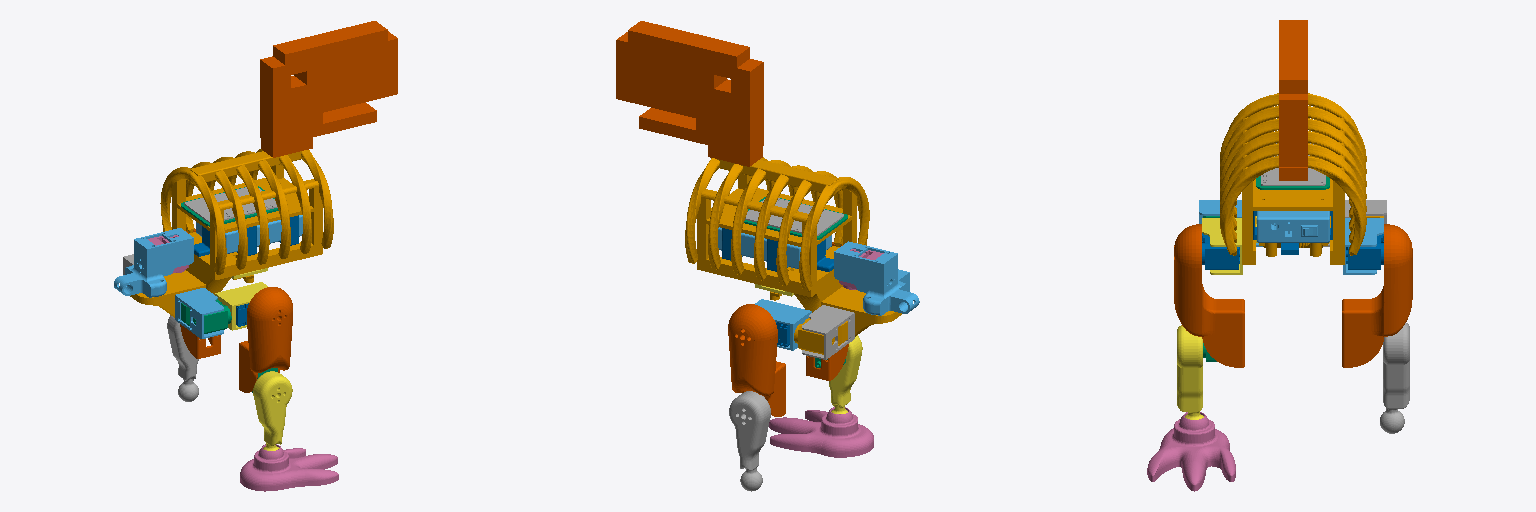
--- Render facts (derived) ---
The picture shows the robot from 3 angles, left to right: view 1: azimuth 30°, elevation 25°; view 2: azimuth 150°, elevation 25°; view 3: azimuth 270°, elevation 25°; orthographic projection.
Robot: jake — 26 links, 25 joints (8 continuous, 17 fixed); root link base_link; default pose: every joint at zero.
Links seen in each view (by area): view 1: base_link, Noggin_v21, thigh1, foot1Component181, jake_tail_STEP_v31Tail1Base1, calf1Main_Calf1, hipmount11, calfMirror1Main_Calf_11, hipmount21, jake_RpiBoard_Fina_v81Raspberry_Pi_4_Model_B_v31PCB_RPi4ModelB1, battery_case_v141actual_case_lol1, battery_case_v141TalentCell_Battery_v21 (+2 smaller); view 2: base_link, Noggin_v21, thighMirror1, foot1Component181, jake_tail_STEP_v31Tail1Base1, calfMirror1Main_Calf_11, hipmount1Mirror1, calf1Main_Calf1, hipmount2Mirror1, jake_RpiBoard_Fina_v81Raspberry_Pi_4_Model_B_v31PCB_RPi4ModelB1, battery_case_v141actual_case_lol1, battery_case_v141TalentCell_Battery_v21 (+2 smaller); view 3: base_link, thighMirror1, thigh1, Noggin_v21, foot1Component181, calfMirror1Main_Calf_11, battery_case_v141TalentCell_Battery_v21, calf1Main_Calf1, servo21Motor_w_Flywheel_Attached_11, hipmount21, servo2Mirror1Motor_w_Flywheel_Attached_1_21, hipmount2Mirror1 (+1 smaller).
Link boxes in pixels (x1=…): base_link: x1=130, y1=149, x2=333, y2=317; Noggin_v21: x1=260, y1=21, x2=397, y2=157; thigh1: x1=239, y1=287, x2=292, y2=392; foot1Component181: x1=240, y1=444, x2=338, y2=491; jake_tail_STEP_v31Tail1Base1: x1=114, y1=228, x2=193, y2=297; calf1Main_Calf1: x1=253, y1=371, x2=292, y2=450; hipmount11: x1=175, y1=288, x2=223, y2=338; calfMirror1Main_Calf_11: x1=167, y1=315, x2=199, y2=401; hipmount21: x1=215, y1=282, x2=267, y2=330; jake_RpiBoard_Fina_v81Raspberry_Pi_4_Model_B_v31PCB_RPi4ModelB1: x1=184, y1=187, x2=277, y2=222; battery_case_v141actual_case_lol1: x1=194, y1=215, x2=298, y2=256; battery_case_v141TalentCell_Battery_v21: x1=196, y1=215, x2=302, y2=253; base_link: x1=685, y1=157, x2=901, y2=336; Noggin_v21: x1=616, y1=21, x2=763, y2=166; thighMirror1: x1=728, y1=304, x2=785, y2=416; foot1Component181: x1=769, y1=407, x2=873, y2=457; jake_tail_STEP_v31Tail1Base1: x1=834, y1=241, x2=919, y2=315; calfMirror1Main_Calf_11: x1=729, y1=391, x2=770, y2=491; hipmount1Mirror1: x1=802, y1=305, x2=854, y2=359; calf1Main_Calf1: x1=829, y1=335, x2=862, y2=413; hipmount2Mirror1: x1=755, y1=299, x2=811, y2=350; jake_RpiBoard_Fina_v81Raspberry_Pi_4_Model_B_v31PCB_RPi4ModelB1: x1=745, y1=198, x2=843, y2=235; battery_case_v141actual_case_lol1: x1=722, y1=228, x2=833, y2=271; battery_case_v141TalentCell_Battery_v21: x1=718, y1=227, x2=831, y2=268; base_link: x1=1220, y1=93, x2=1366, y2=264; thighMirror1: x1=1342, y1=224, x2=1412, y2=367; thigh1: x1=1174, y1=224, x2=1244, y2=367; Noggin_v21: x1=1279, y1=20, x2=1307, y2=180; foot1Component181: x1=1147, y1=412, x2=1235, y2=491; calfMirror1Main_Calf_11: x1=1380, y1=323, x2=1409, y2=433; battery_case_v141TalentCell_Battery_v21: x1=1257, y1=211, x2=1329, y2=242; calf1Main_Calf1: x1=1177, y1=325, x2=1203, y2=419; servo21Motor_w_Flywheel_Attached_11: x1=1202, y1=233, x2=1239, y2=269; hipmount21: x1=1202, y1=218, x2=1242, y2=274; servo2Mirror1Motor_w_Flywheel_Attached_1_21: x1=1346, y1=234, x2=1383, y2=269; hipmount2Mirror1: x1=1343, y1=218, x2=1383, y2=274.
Size in the robot's own frame: 0.3246 by 0.2278 by 0.4373 metres.
Meshes: 26 distinct files referenced, 24 mesh visuals loaded (24 binary STL); not drawn: 2 (reference not matched to a file when rendering).

The robot description file, URDF, robot "jake":
<?xml version="1.0" ?>
<robot name="jake">

<material name="silver">
  <color rgba="0.700 0.700 0.700 1.000"/>
</material>

<link name="base_link">
  <inertial>
    <origin xyz="0.07366642744220055 3.4324931540878744e-08 0.07497454082711993" rpy="0 0 0"/>
    <mass value="0.0735175424772156"/>
    <inertia ixx="0.00022715298291462257" iyy="0.00035650467246695875" izz="0.00027330612180046226" ixy="2.139282183341953e-11" iyz="1.4540012846842918e-11" ixz="-0.00010753830886941747"/>
  </inertial>
  <visual>
    <origin xyz="0 0 0" rpy="0 0 0"/>
    <geometry>
      <mesh filename="meshes/base_link.stl" scale="0.001 0.001 0.001"/>
    </geometry>
    <material name="silver"/>
    <material/>
  </visual>
  <collision>
    <origin xyz="0 0 0" rpy="0 0 0"/>
    <geometry>
      <mesh filename="meshes/base_link.stl" scale="0.001 0.001 0.001"/>
    </geometry>
  </collision>
</link>

<link name="hipmount11">
  <inertial>
    <origin xyz="-0.010450877473847946 -0.020598854976074027 -0.006975051044249692" rpy="0 0 0"/>
    <mass value="0.002127030917238079"/>
    <inertia ixx="9.64808475540197e-07" iyy="5.00558554912034e-07" izz="9.430966968339194e-07" ixy="-1.0072694535571229e-07" iyz="4.059700887159884e-14" ixz="2.3205380691548698e-14"/>
  </inertial>
  <visual>
    <origin xyz="-0.02253 0.0254 -0.020945" rpy="0 0 0"/>
    <geometry>
      <mesh filename="meshes/hipmount11.stl" scale="0.001 0.001 0.001"/>
    </geometry>
    <material name="silver"/>
    <material/>
  </visual>
  <collision>
    <origin xyz="-0.02253 0.0254 -0.020945" rpy="0 0 0"/>
    <geometry>
      <mesh filename="meshes/hipmount11.stl" scale="0.001 0.001 0.001"/>
    </geometry>
  </collision>
</link>

<link name="servo11Motor_w_Flywheel_Attached1">
  <inertial>
    <origin xyz="-0.04553647829764142 -0.010497058076662617 -0.0001456577357472847" rpy="0 0 0"/>
    <mass value="0.05200108715490274"/>
    <inertia ixx="1.1411737965950517e-05" iyy="7.3256973563640795e-06" izz="1.3509763471800736e-05" ixy="4.391971279984005e-07" iyz="2.360253048642449e-11" ixz="1.749658177164408e-10"/>
  </inertial>
  <visual>
    <origin xyz="-0.062502 0.044282 -0.014116" rpy="0 0 0"/>
    <geometry>
      <mesh filename="meshes/servo11Motor_w_Flywheel_Attached1.stl" scale="0.001 0.001 0.001"/>
    </geometry>
    <material name="silver"/>
    <material/>
  </visual>
  <collision>
    <origin xyz="-0.062502 0.044282 -0.014116" rpy="0 0 0"/>
    <geometry>
      <mesh filename="meshes/servo11Motor_w_Flywheel_Attached1.stl" scale="0.001 0.001 0.001"/>
    </geometry>
  </collision>
</link>

<link name="hipmount21">
  <inertial>
    <origin xyz="0.020598863547502767 0.010451077473885108 1.0436543625841344e-09" rpy="0 0 0"/>
    <mass value="0.002127030917238079"/>
    <inertia ixx="5.005585549120615e-07" iyy="9.648084755402003e-07" izz="9.430966968339211e-07" ixy="-1.0072694535572203e-07" iyz="2.3205377726933383e-14" ixz="4.0597003154126446e-14"/>
  </inertial>
  <visual>
    <origin xyz="-0.035628 0.067677 -0.01397" rpy="0 0 0"/>
    <geometry>
      <mesh filename="meshes/hipmount21.stl" scale="0.001 0.001 0.001"/>
    </geometry>
    <material name="silver"/>
    <material/>
  </visual>
  <collision>
    <origin xyz="-0.035628 0.067677 -0.01397" rpy="0 0 0"/>
    <geometry>
      <mesh filename="meshes/hipmount21.stl" scale="0.001 0.001 0.001"/>
    </geometry>
  </collision>
</link>

<link name="servo21Motor_w_Flywheel_Attached_11">
  <inertial>
    <origin xyz="-0.012448933351908775 0.07796467829767864 0.0001456077351519574" rpy="0 0 0"/>
    <mass value="0.05200108715490274"/>
    <inertia ixx="7.325697356363954e-06" iyy="1.1411737965950599e-05" izz="1.3509763471800844e-05" ixy="4.3919712799833275e-07" iyz="1.7496581771305267e-10" ixz="2.3602530493200755e-11"/>
  </inertial>
  <visual>
    <origin xyz="-0.077456 0.140077 -0.013824" rpy="0 0 0"/>
    <geometry>
      <mesh filename="meshes/servo21Motor_w_Flywheel_Attached_11.stl" scale="0.001 0.001 0.001"/>
    </geometry>
    <material name="silver"/>
    <material/>
  </visual>
  <collision>
    <origin xyz="-0.077456 0.140077 -0.013824" rpy="0 0 0"/>
    <geometry>
      <mesh filename="meshes/servo21Motor_w_Flywheel_Attached_11.stl" scale="0.001 0.001 0.001"/>
    </geometry>
  </collision>
</link>

<link name="thigh1">
  <inertial>
    <origin xyz="0.0002239642103345485 -0.0039656170424636344 -0.02706053963576697" rpy="0 0 0"/>
    <mass value="0.015624350984100959"/>
    <inertia ixx="1.3839764164106519e-05" iyy="1.3943498199421182e-05" izz="4.5169682811754634e-06" ixy="-1.2569470561092514e-09" iyz="2.448121333010221e-06" ixz="1.1273443839689718e-07"/>
  </inertial>
  <visual>
    <origin xyz="-0.077905 0.080775 -0.01397" rpy="0 0 0"/>
    <geometry>
      <mesh filename="meshes/thigh1.stl" scale="0.001 0.001 0.001"/>
    </geometry>
    <material name="silver"/>
    <material/>
  </visual>
  <collision>
    <origin xyz="-0.077905 0.080775 -0.01397" rpy="0 0 0"/>
    <geometry>
      <mesh filename="meshes/thigh1.stl" scale="0.001 0.001 0.001"/>
    </geometry>
  </collision>
</link>

<link name="foot1Component181">
  <inertial>
    <origin xyz="0.011361275457841463 -0.0004856821062526051 -0.01795697983808972" rpy="0 0 0"/>
    <mass value="0.013961224525381573"/>
    <inertia ixx="4.510420510224239e-06" iyy="8.317584753180212e-06" izz="1.1637670568507565e-05" ixy="2.2788007857949411e-07" iyz="-1.5594201783255537e-08" ixz="4.293290906789483e-07"/>
  </inertial>
  <visual>
    <origin xyz="-0.078151 0.08501 0.148034" rpy="0 0 0"/>
    <geometry>
      <mesh filename="meshes/foot1Component181.stl" scale="0.001 0.001 0.001"/>
    </geometry>
    <material name="silver"/>
    <material/>
  </visual>
  <collision>
    <origin xyz="-0.078151 0.08501 0.148034" rpy="0 0 0"/>
    <geometry>
      <mesh filename="meshes/foot1Component181.stl" scale="0.001 0.001 0.001"/>
    </geometry>
  </collision>
</link>

<link name="hipmount1Mirror1">
  <inertial>
    <origin xyz="-0.010450877473847943 0.020598854976073833 -0.006975051044249675" rpy="0 0 0"/>
    <mass value="0.002127030917238081"/>
    <inertia ixx="9.648084755402063e-07" iyy="5.005585549116387e-07" izz="9.430966968335501e-07" ixy="1.0072694535571822e-07" iyz="-4.0597008659840604e-14" ixz="2.320537719753779e-14"/>
  </inertial>
  <visual>
    <origin xyz="-0.02253 -0.0254 -0.020945" rpy="0 0 0"/>
    <geometry>
      <mesh filename="meshes/hipmount1Mirror1.stl" scale="0.001 0.001 0.001"/>
    </geometry>
    <material name="silver"/>
    <material/>
  </visual>
  <collision>
    <origin xyz="-0.02253 -0.0254 -0.020945" rpy="0 0 0"/>
    <geometry>
      <mesh filename="meshes/hipmount1Mirror1.stl" scale="0.001 0.001 0.001"/>
    </geometry>
  </collision>
</link>

<link name="servo1Mirror1Motor_w_Flywheel_Attached_21">
  <inertial>
    <origin xyz="0.013263521702359112 0.010497058076662569 -0.02808565773574729" rpy="0 0 0"/>
    <mass value="0.05200108715490543"/>
    <inertia ixx="1.1411737965951954e-05" iyy="7.325697356364784e-06" izz="1.3509763471802172e-05" ixy="-4.391971279984073e-07" iyz="-2.3602530493200755e-11" ixz="1.7496581775032212e-10"/>
  </inertial>
  <visual>
    <origin xyz="-0.003702 -0.044282 -0.042056" rpy="0 0 0"/>
    <geometry>
      <mesh filename="meshes/servo1Mirror1Motor_w_Flywheel_Attached_21.stl" scale="0.001 0.001 0.001"/>
    </geometry>
    <material name="silver"/>
    <material/>
  </visual>
  <collision>
    <origin xyz="-0.003702 -0.044282 -0.042056" rpy="0 0 0"/>
    <geometry>
      <mesh filename="meshes/servo1Mirror1Motor_w_Flywheel_Attached_21.stl" scale="0.001 0.001 0.001"/>
    </geometry>
  </collision>
</link>

<link name="hipmount2Mirror1">
  <inertial>
    <origin xyz="0.020598863547502608 -0.01045107747388515 1.0436543591146874e-09" rpy="0 0 0"/>
    <mass value="0.002127030917238081"/>
    <inertia ixx="5.005585549116659e-07" iyy="9.648084755402291e-07" izz="9.430966968335298e-07" ixy="1.0072694535572966e-07" iyz="-2.320537857396633e-14" ixz="4.059700018951113e-14"/>
  </inertial>
  <visual>
    <origin xyz="-0.035628 -0.067677 -0.01397" rpy="0 0 0"/>
    <geometry>
      <mesh filename="meshes/hipmount2Mirror1.stl" scale="0.001 0.001 0.001"/>
    </geometry>
    <material name="silver"/>
    <material/>
  </visual>
  <collision>
    <origin xyz="-0.035628 -0.067677 -0.01397" rpy="0 0 0"/>
    <geometry>
      <mesh filename="meshes/hipmount2Mirror1.stl" scale="0.001 0.001 0.001"/>
    </geometry>
  </collision>
</link>

<link name="servo31Motor_w_Flywheel_Attached_1_11">
  <inertial>
    <origin xyz="0.06100154298729926 -0.018782200273749973 0.0027089283078350623" rpy="0 0 0"/>
    <mass value="0.05200108715490274"/>
    <inertia ixx="1.3509763471800682e-05" iyy="1.1411737965950517e-05" izz="7.3256973563640354e-06" ixy="1.7496581765884256e-10" iyz="-4.3919712799841406e-07" ixz="-2.3602530628726026e-11"/>
  </inertial>
  <visual>
    <origin xyz="-0.017036 0.04237 0.064068" rpy="0 0 0"/>
    <geometry>
      <mesh filename="meshes/servo31Motor_w_Flywheel_Attached_1_11.stl" scale="0.001 0.001 0.001"/>
    </geometry>
    <material name="silver"/>
    <material/>
  </visual>
  <collision>
    <origin xyz="-0.017036 0.04237 0.064068" rpy="0 0 0"/>
    <geometry>
      <mesh filename="meshes/servo31Motor_w_Flywheel_Attached_1_11.stl" scale="0.001 0.001 0.001"/>
    </geometry>
  </collision>
</link>

<link name="calf1Main_Calf1">
  <inertial>
    <origin xyz="-0.00044887238441694566 -0.008451510113759872 -0.02178833109571708" rpy="0 0 0"/>
    <mass value="0.008433806361749868"/>
    <inertia ixx="6.334466357061025e-06" iyy="6.565083135876671e-06" izz="8.797591897749866e-07" ixy="-2.1715990777658326e-09" iyz="2.1916108904953548e-07" ixz="2.5548867809316615e-08"/>
  </inertial>
  <visual>
    <origin xyz="-0.078038 0.079815 0.074257" rpy="0 0 0"/>
    <geometry>
      <mesh filename="meshes/calf1Main_Calf1.stl" scale="0.001 0.001 0.001"/>
    </geometry>
    <material name="silver"/>
    <material/>
  </visual>
  <collision>
    <origin xyz="-0.078038 0.079815 0.074257" rpy="0 0 0"/>
    <geometry>
      <mesh filename="meshes/calf1Main_Calf1.stl" scale="0.001 0.001 0.001"/>
    </geometry>
  </collision>
</link>

<link name="servo2Mirror1Motor_w_Flywheel_Attached_1_21">
  <inertial>
    <origin xyz="-0.012448933351908859 0.04569132170232183 0.02808560773515196" rpy="0 0 0"/>
    <mass value="0.05200108715490543"/>
    <inertia ixx="7.32569735636474e-06" iyy="1.14117379659519e-05" izz="1.350976347180247e-05" ixy="-4.3919712799838696e-07" iyz="-1.7496581771982893e-10" ixz="2.3602530493200755e-11"/>
  </inertial>
  <visual>
    <origin xyz="-0.077456 -0.016421 0.014116" rpy="0 0 0"/>
    <geometry>
      <mesh filename="meshes/servo2Mirror1Motor_w_Flywheel_Attached_1_21.stl" scale="0.001 0.001 0.001"/>
    </geometry>
    <material name="silver"/>
    <material/>
  </visual>
  <collision>
    <origin xyz="-0.077456 -0.016421 0.014116" rpy="0 0 0"/>
    <geometry>
      <mesh filename="meshes/servo2Mirror1Motor_w_Flywheel_Attached_1_21.stl" scale="0.001 0.001 0.001"/>
    </geometry>
  </collision>
</link>

<link name="thighMirror1">
  <inertial>
    <origin xyz="0.00022396445139864773 0.003965592661951595 -0.027060572596788894" rpy="0 0 0"/>
    <mass value="0.015624332312955288"/>
    <inertia ixx="1.383974261506272e-05" iyy="1.3943482227764988e-05" izz="4.516960115786173e-06" ixy="1.2566790780053514e-09" iyz="-2.4481159037913195e-06" ixz="1.1273430171928472e-07"/>
  </inertial>
  <visual>
    <origin xyz="-0.077905 -0.080775 -0.01397" rpy="0 0 0"/>
    <geometry>
      <mesh filename="meshes/thighMirror1.stl" scale="0.001 0.001 0.001"/>
    </geometry>
    <material name="silver"/>
    <material/>
  </visual>
  <collision>
    <origin xyz="-0.077905 -0.080775 -0.01397" rpy="0 0 0"/>
    <geometry>
      <mesh filename="meshes/thighMirror1.stl" scale="0.001 0.001 0.001"/>
    </geometry>
  </collision>
</link>

<link name="servo3Mirror1Motor_w_Flywheel_Attached_1_1_11">
  <inertial>
    <origin xyz="-4.5701270064146815e-07 0.0002842002737504304 -0.02210247169216488" rpy="0 0 0"/>
    <mass value="0.05200108715490543"/>
    <inertia ixx="1.3509763471802091e-05" iyy="1.1411737965951927e-05" izz="7.325697356364686e-06" ixy="-1.7496581765884256e-10" iyz="4.3919712799838696e-07" ixz="-2.3602530574515918e-11"/>
  </inertial>
  <visual>
    <origin xyz="-0.078038 -0.060868 0.03598" rpy="0 0 0"/>
    <geometry>
      <mesh filename="meshes/servo3Mirror1Motor_w_Flywheel_Attached_1_1_11.stl" scale="0.001 0.001 0.001"/>
    </geometry>
    <material name="silver"/>
    <material/>
  </visual>
  <collision>
    <origin xyz="-0.078038 -0.060868 0.03598" rpy="0 0 0"/>
    <geometry>
      <mesh filename="meshes/servo3Mirror1Motor_w_Flywheel_Attached_1_1_11.stl" scale="0.001 0.001 0.001"/>
    </geometry>
  </collision>
</link>

<link name="calfMirror1Main_Calf_11">
  <inertial>
    <origin xyz="-0.00044887001728799447 0.008451468083334412 -0.02178869407419469" rpy="0 0 0"/>
    <mass value="0.008433842168596982"/>
    <inertia ixx="6.334507938049352e-06" iyy="6.565125650764874e-06" izz="8.797678338157784e-07" ixy="2.171806058716495e-09" iyz="-2.1915576099561945e-07" ixz="2.5548906498989825e-08"/>
  </inertial>
  <visual>
    <origin xyz="-0.078038 -0.079815 0.07098" rpy="0 0 0"/>
    <geometry>
      <mesh filename="meshes/calfMirror1Main_Calf_11.stl" scale="0.001 0.001 0.001"/>
    </geometry>
    <material name="silver"/>
    <material/>
  </visual>
  <collision>
    <origin xyz="-0.078038 -0.079815 0.07098" rpy="0 0 0"/>
    <geometry>
      <mesh filename="meshes/calfMirror1Main_Calf_11.stl" scale="0.001 0.001 0.001"/>
    </geometry>
  </collision>
</link>

<link name="footMirror1Component231">
  <inertial>
    <origin xyz="0.01136125225530836 0.00048565544201280286 -0.017956407039870143" rpy="0 0 0"/>
    <mass value="0.013961190877406347"/>
    <inertia ixx="4.510400035418578e-06" iyy="8.317561693790257e-06" izz="1.1637642303617652e-05" ixy="-2.2787528977984757e-07" iyz="1.559759098832339e-08" ixz="4.2933288601587714e-07"/>
  </inertial>
  <visual>
    <origin xyz="-0.078151 -0.08501 0.144758" rpy="0 0 0"/>
    <geometry>
      <mesh filename="meshes/footMirror1Component231.stl" scale="0.001 0.001 0.001"/>
    </geometry>
    <material name="silver"/>
    <material/>
  </visual>
  <collision>
    <origin xyz="-0.078151 -0.08501 0.144758" rpy="0 0 0"/>
    <geometry>
      <mesh filename="meshes/footMirror1Component231.stl" scale="0.001 0.001 0.001"/>
    </geometry>
  </collision>
</link>

<link name="jake_tail_STEP_v31Tail1Base1">
  <inertial>
    <origin xyz="-0.0028634109138929026 0.021824857801826292 0.017611438876835576" rpy="0 0 0"/>
    <mass value="0.006025637969283059"/>
    <inertia ixx="2.494837719479819e-06" iyy="2.9567609529643606e-06" izz="2.5336929275497234e-06" ixy="-5.124145240902433e-12" iyz="4.634635232148862e-11" ixz="-7.653164338532848e-07"/>
  </inertial>
  <visual>
    <origin xyz="0.01524 0.021819 -0.03048" rpy="0 0 0"/>
    <geometry>
      <mesh filename="meshes/jake_tail_STEP_v31Tail1Base1.stl" scale="0.001 0.001 0.001"/>
    </geometry>
    <material name="silver"/>
    <material/>
  </visual>
  <collision>
    <origin xyz="0.01524 0.021819 -0.03048" rpy="0 0 0"/>
    <geometry>
      <mesh filename="meshes/jake_tail_STEP_v31Tail1Base1.stl" scale="0.001 0.001 0.001"/>
    </geometry>
  </collision>
</link>

<link name="jake_RpiBoard_Fina_v81board1">
  <inertial>
    <origin xyz="-0.03909564452415272 -0.024359927842207 0.0008999999999999564" rpy="0 0 0"/>
    <mass value="0.0019394922620199428"/>
    <inertia ixx="6.423355849237124e-07" iyy="1.3724438621632714e-06" izz="2.0137321212654904e-06" ixy="-2.0554887126757417e-09" iyz="-8.768114493062093e-22" ixz="0.0"/>
  </inertial>
  <visual>
    <origin xyz="-0.120523 -0.024498 -0.09779" rpy="0 0 0"/>
    <geometry>
      <mesh filename="meshes/jake_RpiBoard_Fina_v81board1.stl" scale="0.001 0.001 0.001"/>
    </geometry>
    <material name="silver"/>
    <material/>
  </visual>
  <collision>
    <origin xyz="-0.120523 -0.024498 -0.09779" rpy="0 0 0"/>
    <geometry>
      <mesh filename="meshes/jake_RpiBoard_Fina_v81board1.stl" scale="0.001 0.001 0.001"/>
    </geometry>
  </collision>
</link>

<link name="Jake_Power_Coverter_Mount_v41Component1081">
  <inertial>
    <origin xyz="0.10970389090909091 -0.017229999999999995 0.08723467024128687" rpy="0 0 0"/>
    <mass value="0.0009712920000000003"/>
    <inertia ixx="7.100202563136745e-07" iyy="2.3900548131367455e-07" izz="9.423444169999999e-07" ixy="1.6212740006039342e-22" iyz="-1.6543612251060553e-24" ixz="0.0"/>
  </inertial>
  <visual>
    <origin xyz="0.02794 -0.01748 0.049804" rpy="0 0 0"/>
    <geometry>
      <mesh filename="meshes/Jake_Power_Coverter_Mount_v41Component1081.stl" scale="0.001 0.001 0.001"/>
    </geometry>
    <material name="silver"/>
    <material/>
  </visual>
  <collision>
    <origin xyz="0.02794 -0.01748 0.049804" rpy="0 0 0"/>
    <geometry>
      <mesh filename="meshes/Jake_Power_Coverter_Mount_v41Component1081.stl" scale="0.001 0.001 0.001"/>
    </geometry>
  </collision>
</link>

<link name="battery_case_v141actual_case_lol1">
  <inertial>
    <origin xyz="0.06307682179410651 0.0002588655651982208 0.006953933283610089" rpy="0 0 0"/>
    <mass value="0.0051109196621821115"/>
    <inertia ixx="2.162276597790557e-06" iyy="6.5273401464139246e-06" izz="7.887364728359264e-06" ixy="2.6968003831336055e-08" iyz="-3.104883297386938e-08" ixz="2.98422021036982e-07"/>
  </inertial>
  <visual>
    <origin xyz="-0.03523 -0.0 -0.05588" rpy="0 0 0"/>
    <geometry>
      <mesh filename="meshes/battery_case_v141actual_case_lol1.stl" scale="0.001 0.001 0.001"/>
    </geometry>
    <material name="silver"/>
    <material/>
  </visual>
  <collision>
    <origin xyz="-0.03523 -0.0 -0.05588" rpy="0 0 0"/>
    <geometry>
      <mesh filename="meshes/battery_case_v141actual_case_lol1.stl" scale="0.001 0.001 0.001"/>
    </geometry>
  </collision>
</link>

<link name="Noggin_v21">
  <inertial>
    <origin xyz="0.3538460409345008 -0.10318200000000001 0.296393973731926" rpy="0 0 0"/>
    <mass value="0.05806545047808987"/>
    <inertia ixx="5.252505119797716e-05" iyy="0.00014773268773648172" izz="0.00010189922647076003" ixy="-1.1430306821771549e-20" iyz="1.651990056109582e-20" ixz="-8.328721245680955e-06"/>
  </inertial>
  <visual>
    <origin xyz="0.158373 -0.103182 0.081554" rpy="0 0 0"/>
    <geometry>
      <mesh filename="meshes/Noggin_v21.stl" scale="0.001 0.001 0.001"/>
    </geometry>
    <material name="silver"/>
    <material/>
  </visual>
  <collision>
    <origin xyz="0.158373 -0.103182 0.081554" rpy="0 0 0"/>
    <geometry>
      <mesh filename="meshes/Noggin_v21.stl" scale="0.001 0.001 0.001"/>
    </geometry>
  </collision>
</link>

<link name="jake_tail_STEP_v31Jake_Servo_with_Flywheel_v31Motor_w_Flywheel_Attached_31">
  <inertial>
    <origin xyz="0.09764364474378343 0.021659523977101358 -0.03076394170218196" rpy="0 0 0"/>
    <mass value="0.05200108715424498"/>
    <inertia ixx="7.3256973562342564e-06" iyy="1.3509763471514371e-05" izz="1.1411737965790372e-05" ixy="-2.36025032202081e-11" iyz="-1.7496585470946988e-10" ixz="4.3919712789236723e-07"/>
  </inertial>
  <visual>
    <origin xyz="0.096072 0.021654 -0.09187" rpy="0 0 0"/>
    <geometry>
      <mesh filename="meshes/jake_tail_STEP_v31Jake_Servo_with_Flywheel_v31Motor_w_Flywheel_Attached_31.stl" scale="0.001 0.001 0.001"/>
    </geometry>
    <material name="silver"/>
    <material/>
  </visual>
  <collision>
    <origin xyz="0.096072 0.021654 -0.09187" rpy="0 0 0"/>
    <geometry>
      <mesh filename="meshes/jake_tail_STEP_v31Jake_Servo_with_Flywheel_v31Motor_w_Flywheel_Attached_31.stl" scale="0.001 0.001 0.001"/>
    </geometry>
  </collision>
</link>

<link name="jake_RpiBoard_Fina_v81Raspberry_Pi_4_Model_B_v31PCB_RPi4ModelB1">
  <inertial>
    <origin xyz="-0.00012078223333916727 0.00017289459791625786 0.0008000000000000923" rpy="0 0 0"/>
    <mass value="0.0138863396732554"/>
    <inertia ixx="3.565290598003828e-06" iyy="8.339737472120781e-06" izz="1.1899106026451808e-05" ixy="-1.823302726790508e-08" iyz="-2.1440521477374477e-21" ixz="0.0"/>
  </inertial>
  <visual>
    <origin xyz="-0.081523 2e-06 -0.09959" rpy="0 0 0"/>
    <geometry>
      <mesh filename="meshes/jake_RpiBoard_Fina_v81Raspberry_Pi_4_Model_B_v31PCB_RPi4ModelB1.stl" scale="0.001 0.001 0.001"/>
    </geometry>
    <material name="silver"/>
    <material/>
  </visual>
  <collision>
    <origin xyz="-0.081523 2e-06 -0.09959" rpy="0 0 0"/>
    <geometry>
      <mesh filename="meshes/jake_RpiBoard_Fina_v81Raspberry_Pi_4_Model_B_v31PCB_RPi4ModelB1.stl" scale="0.001 0.001 0.001"/>
    </geometry>
  </collision>
</link>

<link name="Jake_Power_Coverter_Mount_v41Power_Converter_v11">
  <inertial>
    <origin xyz="0.010157872286075176 0.06288136529035002 -0.11052142350784536" rpy="0 0 0"/>
    <mass value="0.03542582746378581"/>
    <inertia ixx="5.7853326550539e-06" iyy="2.2881734396583897e-06" izz="6.432048791215163e-06" ixy="4.519653592846906e-08" iyz="7.321701690091683e-08" ixz="9.609819226387027e-08"/>
  </inertial>
  <visual>
    <origin xyz="-0.073573 0.061514 -0.143517" rpy="0 0 0"/>
    <geometry>
      <mesh filename="meshes/Jake_Power_Coverter_Mount_v41Power_Converter_v11.stl" scale="0.001 0.001 0.001"/>
    </geometry>
    <material name="silver"/>
    <material/>
  </visual>
  <collision>
    <origin xyz="-0.073573 0.061514 -0.143517" rpy="0 0 0"/>
    <geometry>
      <mesh filename="meshes/Jake_Power_Coverter_Mount_v41Power_Converter_v11.stl" scale="0.001 0.001 0.001"/>
    </geometry>
  </collision>
</link>

<link name="battery_case_v141TalentCell_Battery_v21">
  <inertial>
    <origin xyz="0.13053001766422823 -0.025127530314852983 -0.15183761630427373" rpy="0 0 0"/>
    <mass value="0.3805639551859371"/>
    <inertia ixx="0.00014360637975661603" iyy="0.0003636561935676562" izz="0.00047085041746723014" ixy="-1.7654085028514195e-06" iyz="-8.859257534293076e-08" ixz="3.946808970183707e-07"/>
  </inertial>
  <visual>
    <origin xyz="0.023438 -0.025222 -0.225765" rpy="0 0 0"/>
    <geometry>
      <mesh filename="meshes/battery_case_v141TalentCell_Battery_v21.stl" scale="0.001 0.001 0.001"/>
    </geometry>
    <material name="silver"/>
    <material/>
  </visual>
  <collision>
    <origin xyz="0.023438 -0.025222 -0.225765" rpy="0 0 0"/>
    <geometry>
      <mesh filename="meshes/battery_case_v141TalentCell_Battery_v21.stl" scale="0.001 0.001 0.001"/>
    </geometry>
  </collision>
</link>

<joint name="Rigid_1" type="fixed">
  <origin xyz="0.02253 -0.0254 0.020945" rpy="0 0 0"/>
  <parent link="base_link"/>
  <child link="hipmount11"/>
</joint>

<joint name="Rigid_2" type="fixed">
  <origin xyz="0.039972 -0.018882 -0.006829" rpy="0 0 0"/>
  <parent link="hipmount11"/>
  <child link="servo11Motor_w_Flywheel_Attached1"/>
</joint>

<joint name="Revolute_3" type="continuous">
  <origin xyz="-0.026874 -0.023395 -0.000146" rpy="0 0 0"/>
  <parent link="servo11Motor_w_Flywheel_Attached1"/>
  <child link="hipmount21"/>
  <axis xyz="1.0 -0.0 -0.0"/>
</joint>
<transmission name="Revolute_3_tran">
  <type>transmission_interface/SimpleTransmission</type>
  <joint name="Revolute_3">
    <hardwareInterface>PositionJointInterface</hardwareInterface>
  </joint>
  <actuator name="Revolute_3_actr">
    <hardwareInterface>PositionJointInterface</hardwareInterface>
    <mechanicalReduction>1</mechanicalReduction>
  </actuator>
</transmission>

<joint name="Rigid_4" type="fixed">
  <origin xyz="0.041828 -0.0724 -0.000146" rpy="0 0 0"/>
  <parent link="hipmount21"/>
  <child link="servo21Motor_w_Flywheel_Attached_11"/>
</joint>

<joint name="Revolute_5" type="continuous">
  <origin xyz="0.000449 0.059302 0.000146" rpy="0 0 0"/>
  <parent link="servo21Motor_w_Flywheel_Attached_11"/>
  <child link="thigh1"/>
  <axis xyz="0.0 -1.0 -0.0"/>
</joint>
<transmission name="Revolute_5_tran">
  <type>transmission_interface/SimpleTransmission</type>
  <joint name="Revolute_5">
    <hardwareInterface>PositionJointInterface</hardwareInterface>
  </joint>
  <actuator name="Revolute_5_actr">
    <hardwareInterface>PositionJointInterface</hardwareInterface>
    <mechanicalReduction>1</mechanicalReduction>
  </actuator>
</transmission>

<joint name="Revolute_9" type="continuous">
  <origin xyz="0.000113 -0.005195 -0.073777" rpy="0 0 0"/>
  <parent link="calf1Main_Calf1"/>
  <child link="foot1Component181"/>
  <axis xyz="0.0 1.0 -0.0"/>
</joint>
<transmission name="Revolute_9_tran">
  <type>transmission_interface/SimpleTransmission</type>
  <joint name="Revolute_9">
    <hardwareInterface>PositionJointInterface</hardwareInterface>
  </joint>
  <actuator name="Revolute_9_actr">
    <hardwareInterface>PositionJointInterface</hardwareInterface>
    <mechanicalReduction>1</mechanicalReduction>
  </actuator>
</transmission>

<joint name="Rigid_10" type="fixed">
  <origin xyz="0.02253 0.0254 0.020945" rpy="0 0 0"/>
  <parent link="base_link"/>
  <child link="hipmount1Mirror1"/>
</joint>

<joint name="Rigid_11" type="fixed">
  <origin xyz="-0.018828 0.018882 0.021111" rpy="0 0 0"/>
  <parent link="hipmount1Mirror1"/>
  <child link="servo1Mirror1Motor_w_Flywheel_Attached_21"/>
</joint>

<joint name="Revolute_12" type="continuous">
  <origin xyz="0.031926 0.023395 -0.028086" rpy="0 0 0"/>
  <parent link="servo1Mirror1Motor_w_Flywheel_Attached_21"/>
  <child link="hipmount2Mirror1"/>
  <axis xyz="-1.0 -0.0 -0.0"/>
</joint>
<transmission name="Revolute_12_tran">
  <type>transmission_interface/SimpleTransmission</type>
  <joint name="Revolute_12">
    <hardwareInterface>PositionJointInterface</hardwareInterface>
  </joint>
  <actuator name="Revolute_12_actr">
    <hardwareInterface>PositionJointInterface</hardwareInterface>
    <mechanicalReduction>1</mechanicalReduction>
  </actuator>
</transmission>

<joint name="Rigid_13" type="fixed">
  <origin xyz="-0.060869 0.038405 -0.078038" rpy="0 0 0"/>
  <parent link="thigh1"/>
  <child link="servo31Motor_w_Flywheel_Attached_1_11"/>
</joint>

<joint name="Revolute_14" type="continuous">
  <origin xyz="0.061002 -0.037445 -0.010189" rpy="0 0 0"/>
  <parent link="servo31Motor_w_Flywheel_Attached_1_11"/>
  <child link="calf1Main_Calf1"/>
  <axis xyz="-0.0 -1.0 0.0"/>
</joint>
<transmission name="Revolute_14_tran">
  <type>transmission_interface/SimpleTransmission</type>
  <joint name="Revolute_14">
    <hardwareInterface>PositionJointInterface</hardwareInterface>
  </joint>
  <actuator name="Revolute_14_actr">
    <hardwareInterface>PositionJointInterface</hardwareInterface>
    <mechanicalReduction>1</mechanicalReduction>
  </actuator>
</transmission>

<joint name="Rigid_15" type="fixed">
  <origin xyz="0.041828 -0.051256 -0.028086" rpy="0 0 0"/>
  <parent link="hipmount2Mirror1"/>
  <child link="servo2Mirror1Motor_w_Flywheel_Attached_1_21"/>
</joint>

<joint name="Revolute_16" type="continuous">
  <origin xyz="0.000449 0.064354 0.028086" rpy="0 0 0"/>
  <parent link="servo2Mirror1Motor_w_Flywheel_Attached_1_21"/>
  <child link="thighMirror1"/>
  <axis xyz="-0.0 -1.0 -0.0"/>
</joint>
<transmission name="Revolute_16_tran">
  <type>transmission_interface/SimpleTransmission</type>
  <joint name="Revolute_16">
    <hardwareInterface>PositionJointInterface</hardwareInterface>
  </joint>
  <actuator name="Revolute_16_actr">
    <hardwareInterface>PositionJointInterface</hardwareInterface>
    <mechanicalReduction>1</mechanicalReduction>
  </actuator>
</transmission>

<joint name="Rigid_17" type="fixed">
  <origin xyz="0.000133 -0.019907 -0.04995" rpy="0 0 0"/>
  <parent link="thighMirror1"/>
  <child link="servo3Mirror1Motor_w_Flywheel_Attached_1_1_11"/>
</joint>

<joint name="Revolute_18" type="continuous">
  <origin xyz="0.0 0.018947 -0.035" rpy="0 0 0"/>
  <parent link="servo3Mirror1Motor_w_Flywheel_Attached_1_1_11"/>
  <child link="calfMirror1Main_Calf_11"/>
  <axis xyz="0.0 -1.0 -0.0"/>
</joint>
<transmission name="Revolute_18_tran">
  <type>transmission_interface/SimpleTransmission</type>
  <joint name="Revolute_18">
    <hardwareInterface>PositionJointInterface</hardwareInterface>
  </joint>
  <actuator name="Revolute_18_actr">
    <hardwareInterface>PositionJointInterface</hardwareInterface>
    <mechanicalReduction>1</mechanicalReduction>
  </actuator>
</transmission>

<joint name="Revolute_19" type="continuous">
  <origin xyz="0.000113 0.005195 -0.073778" rpy="0 0 0"/>
  <parent link="calfMirror1Main_Calf_11"/>
  <child link="footMirror1Component231"/>
  <axis xyz="0.0 -1.0 -0.0"/>
</joint>
<transmission name="Revolute_19_tran">
  <type>transmission_interface/SimpleTransmission</type>
  <joint name="Revolute_19">
    <hardwareInterface>PositionJointInterface</hardwareInterface>
  </joint>
  <actuator name="Revolute_19_actr">
    <hardwareInterface>PositionJointInterface</hardwareInterface>
    <mechanicalReduction>1</mechanicalReduction>
  </actuator>
</transmission>

<joint name="Rigid_20" type="fixed">
  <origin xyz="-0.01524 -0.021819 0.03048" rpy="0 0 0"/>
  <parent link="base_link"/>
  <child link="jake_tail_STEP_v31Tail1Base1"/>
</joint>

<joint name="Rigid_21" type="fixed">
  <origin xyz="0.120523 0.024498 0.09779" rpy="0 0 0"/>
  <parent link="base_link"/>
  <child link="jake_RpiBoard_Fina_v81board1"/>
</joint>

<joint name="Rigid_23" type="fixed">
  <origin xyz="-0.02794 0.01748 -0.049804" rpy="0 0 0"/>
  <parent link="base_link"/>
  <child link="Jake_Power_Coverter_Mount_v41Component1081"/>
</joint>

<joint name="Rigid_24" type="fixed">
  <origin xyz="0.03523 0.0 0.05588" rpy="0 0 0"/>
  <parent link="base_link"/>
  <child link="battery_case_v141actual_case_lol1"/>
</joint>

<joint name="Rigid_25" type="fixed">
  <origin xyz="-0.158373 0.103182 -0.081554" rpy="0 0 0"/>
  <parent link="base_link"/>
  <child link="Noggin_v21"/>
</joint>

<joint name="jake_tail_STEP_v31_Rigid 1" type="fixed">
  <origin xyz="-0.080832 0.000165 0.06139" rpy="0 0 0"/>
  <parent link="jake_tail_STEP_v31Tail1Base1"/>
  <child link="jake_tail_STEP_v31Jake_Servo_with_Flywheel_v31Motor_w_Flywheel_Attached_31"/>
</joint>

<joint name="jake_RpiBoard_Fina_v81_Rigid 3" type="fixed">
  <origin xyz="-0.039 -0.0245 0.0018" rpy="0 0 0"/>
  <parent link="jake_RpiBoard_Fina_v81board1"/>
  <child link="jake_RpiBoard_Fina_v81Raspberry_Pi_4_Model_B_v31PCB_RPi4ModelB1"/>
</joint>

<joint name="Jake_Power_Coverter_Mount_v41_Rigid 2" type="fixed">
  <origin xyz="0.101513 -0.078994 0.193321" rpy="0 0 0"/>
  <parent link="Jake_Power_Coverter_Mount_v41Component1081"/>
  <child link="Jake_Power_Coverter_Mount_v41Power_Converter_v11"/>
</joint>

<joint name="battery_case_v141_Rigid 2" type="fixed">
  <origin xyz="-0.058668 0.025222 0.169885" rpy="0 0 0"/>
  <parent link="battery_case_v141actual_case_lol1"/>
  <child link="battery_case_v141TalentCell_Battery_v21"/>
</joint>

</robot>
